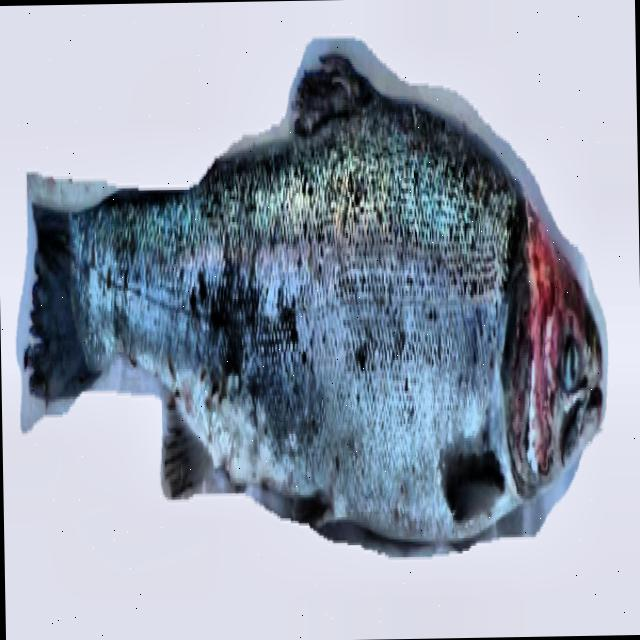mild_red: (69, 94, 522, 539)
wound: (509, 199, 600, 486)
